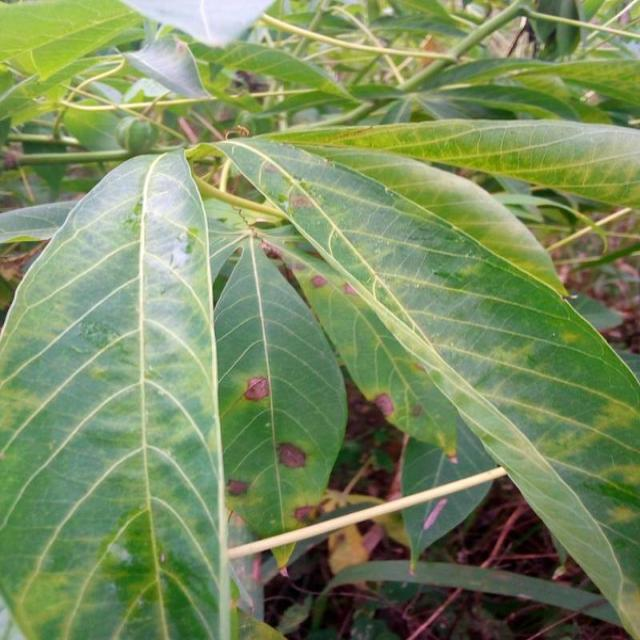cassava leaf: (210, 131, 639, 637), (0, 144, 239, 638), (211, 232, 348, 570)
